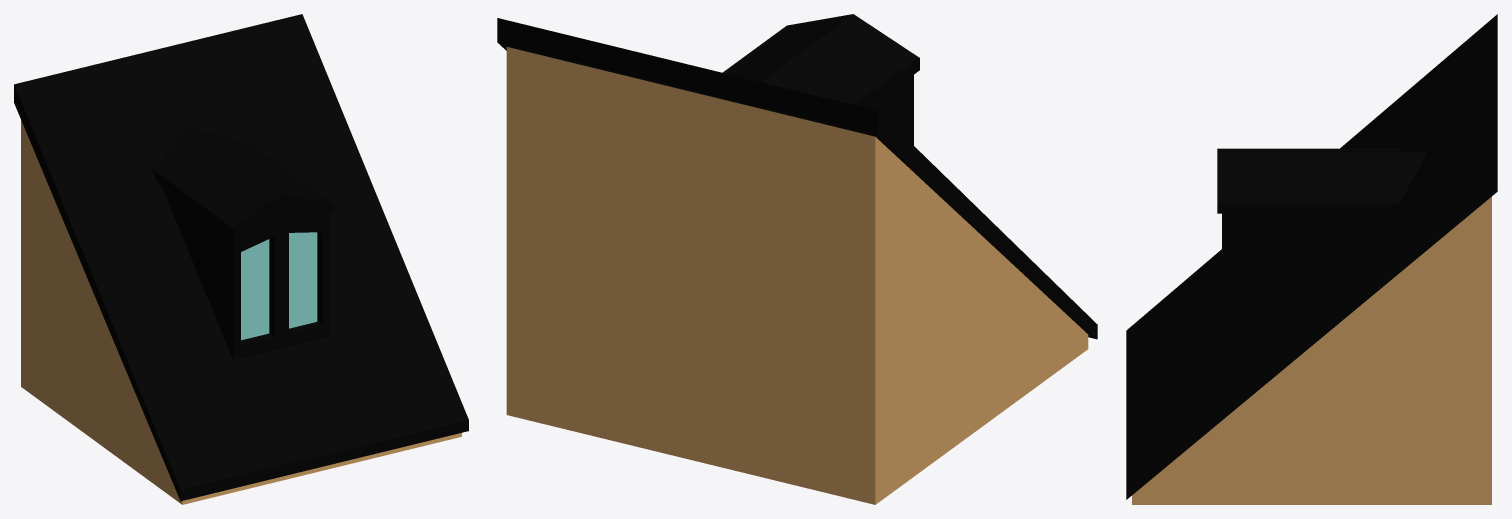
Rendered from Building Top3.fbx.
The picture shows the model from 3 angles, left to right: view 1: azimuth 30°, elevation 25°; view 2: azimuth 150°, elevation 25°; view 3: azimuth 270°, elevation 25°; orthographic projection. The views are drawn at different scales.
Parts seen in each view (by area): view 1: Roof.001; view 2: Roof.001; view 3: Roof.001.
Part boxes in pixels (x1,y1,x2,y2): Roof.001: (14,14,468,504); Roof.001: (497,14,1097,504); Roof.001: (1126,14,1497,504).
Size of the model in its own units: 300 by 300 by 300.
